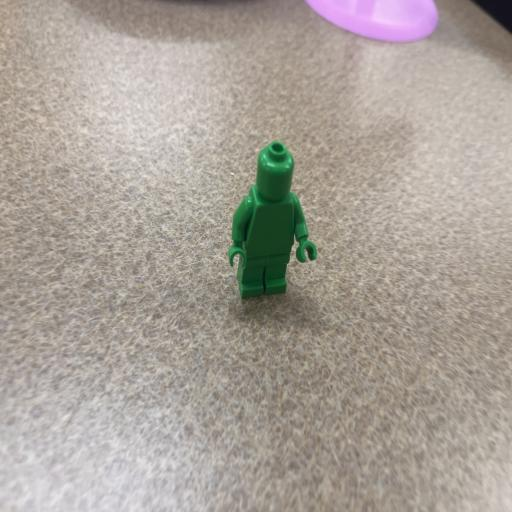Lego-Minifig: (228, 141, 317, 298)
